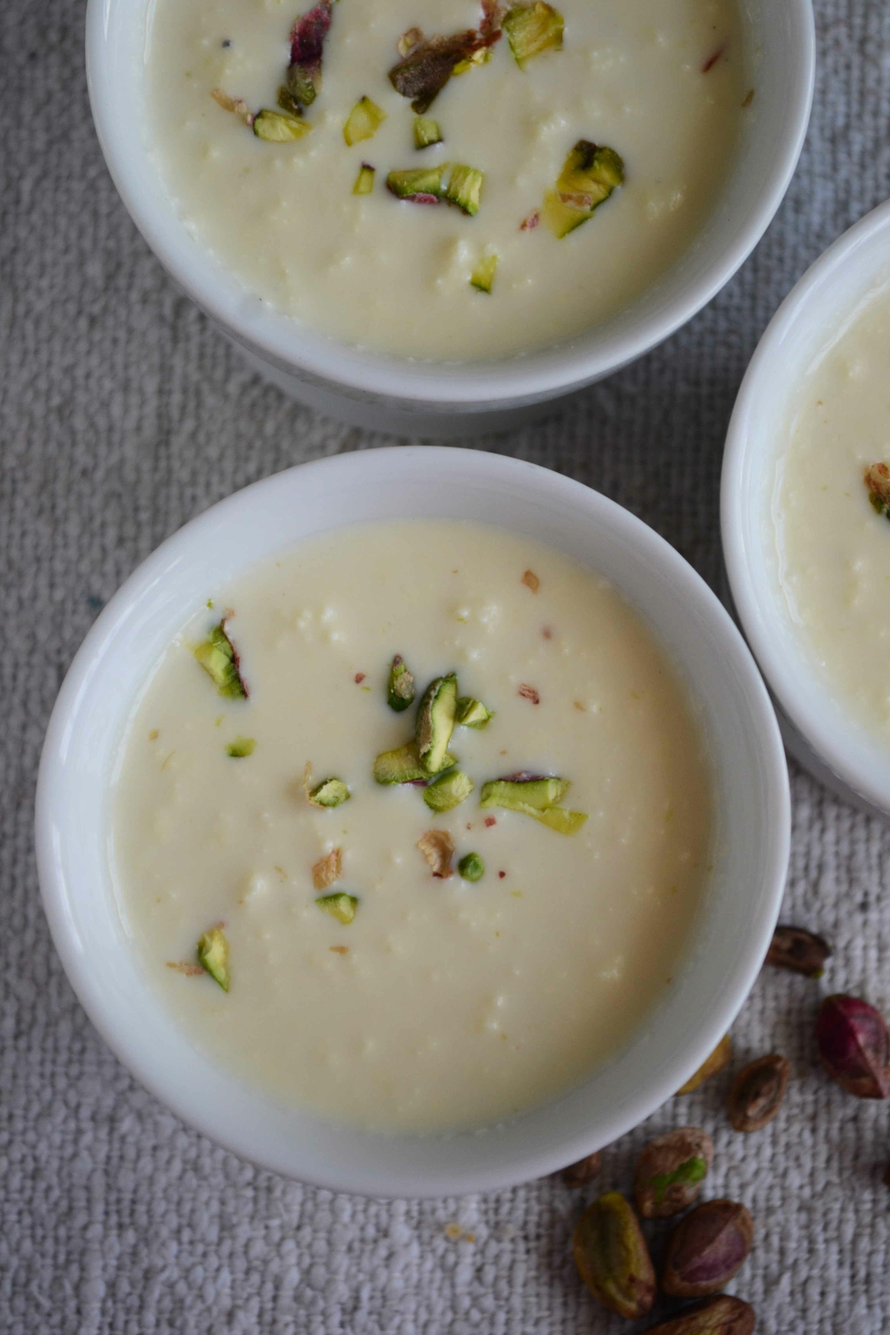Kheer: (108, 522, 716, 1135), (143, 0, 761, 348), (786, 274, 890, 722)
